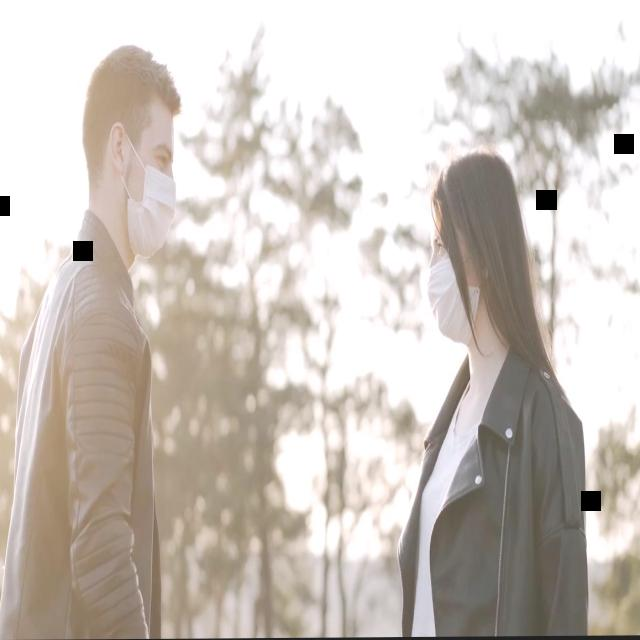Mask: (123, 112, 177, 259), (426, 207, 483, 346)
